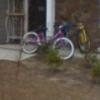bicycles: (21, 25, 75, 62)
